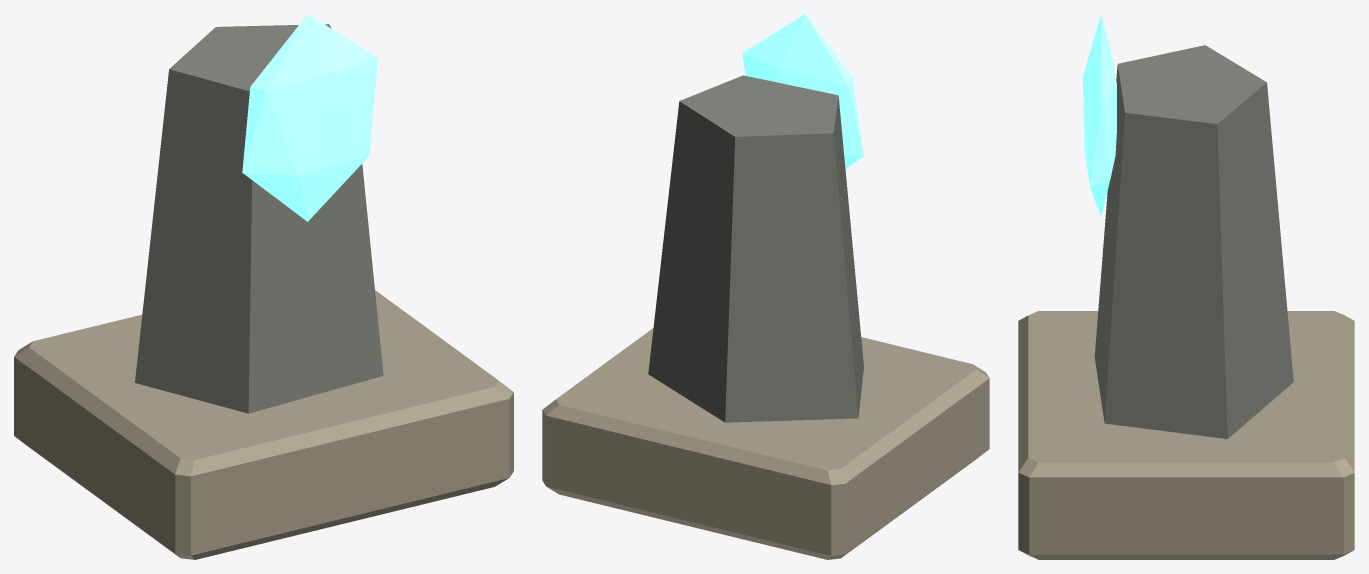
The model's file is SM_RUI_PROP_002_AncientConsole.glb.
3 renders of one model, left to right at view 1: azimuth 30°, elevation 25°; view 2: azimuth 150°, elevation 25°; view 3: azimuth 270°, elevation 25°, orthographic. The views are drawn at different scales.
Parts seen in each view (by area): view 1: SM_RUI_PROP_002_AncientConsole; view 2: SM_RUI_PROP_002_AncientConsole; view 3: SM_RUI_PROP_002_AncientConsole.
Boxes of the visible parts, box(x1,y1,x2,y2) form: SM_RUI_PROP_002_AncientConsole: box(14, 14, 513, 559); SM_RUI_PROP_002_AncientConsole: box(542, 14, 989, 559); SM_RUI_PROP_002_AncientConsole: box(1018, 14, 1354, 559).
Size of the model in its own units: 0.85 by 1.16 by 0.75.
